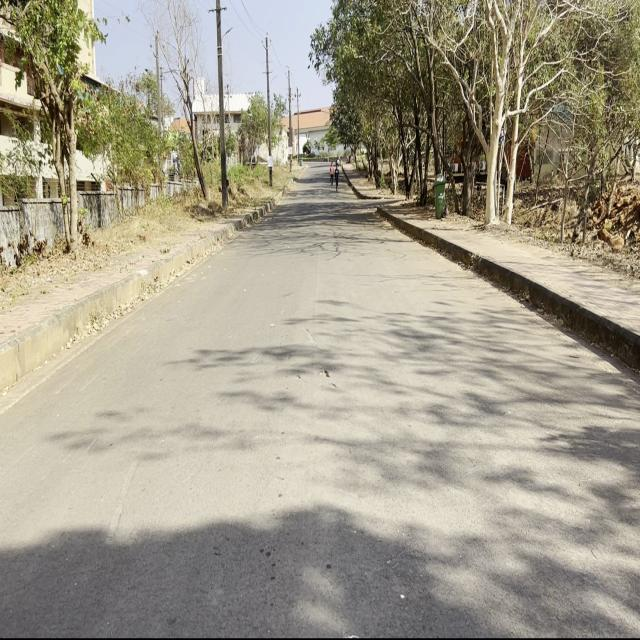Road: (5, 161, 640, 632)
